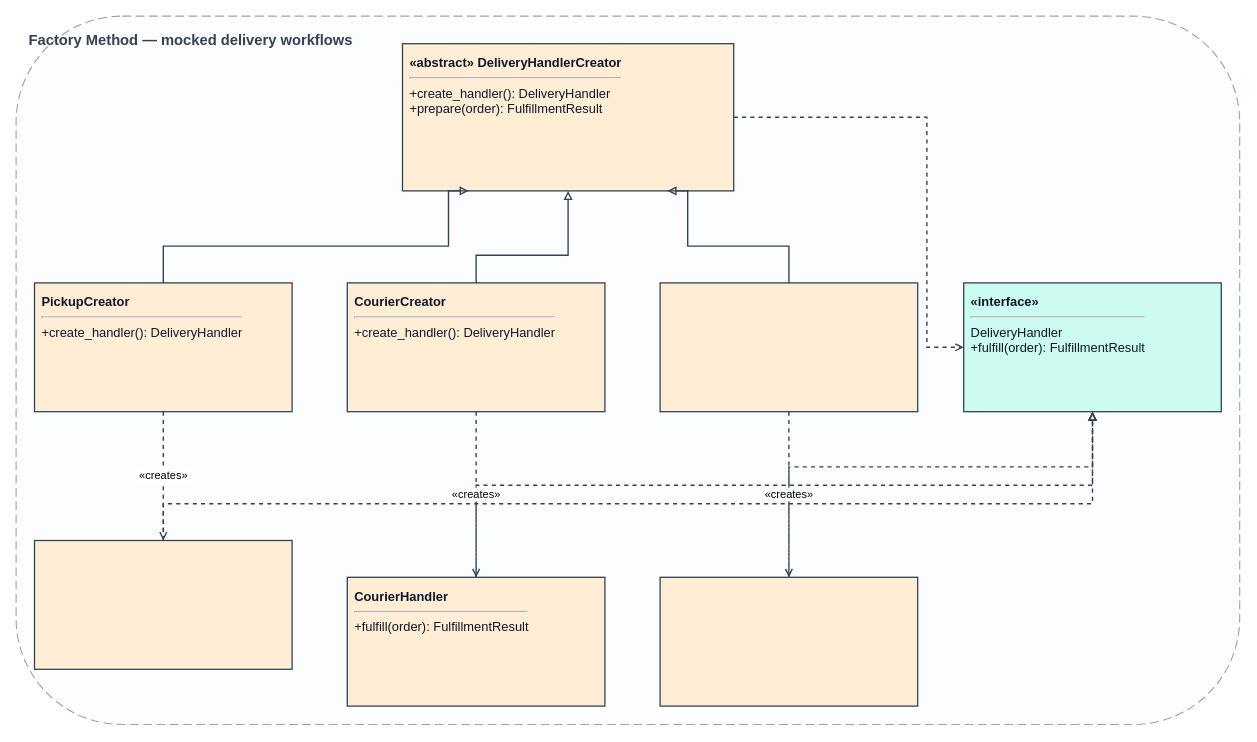
This 1257x742 diagram has some shape labels left out. The centre of each missing label's shape, as x and y in pixels:
PickupHandler +fulfill(order): FulfillmentResult: the point at 162,604
PostalCreator +create_handler(): DeliveryHandler: the point at 788,347
PostalHandler +fulfill(order): FulfillmentResult: the point at 788,641
